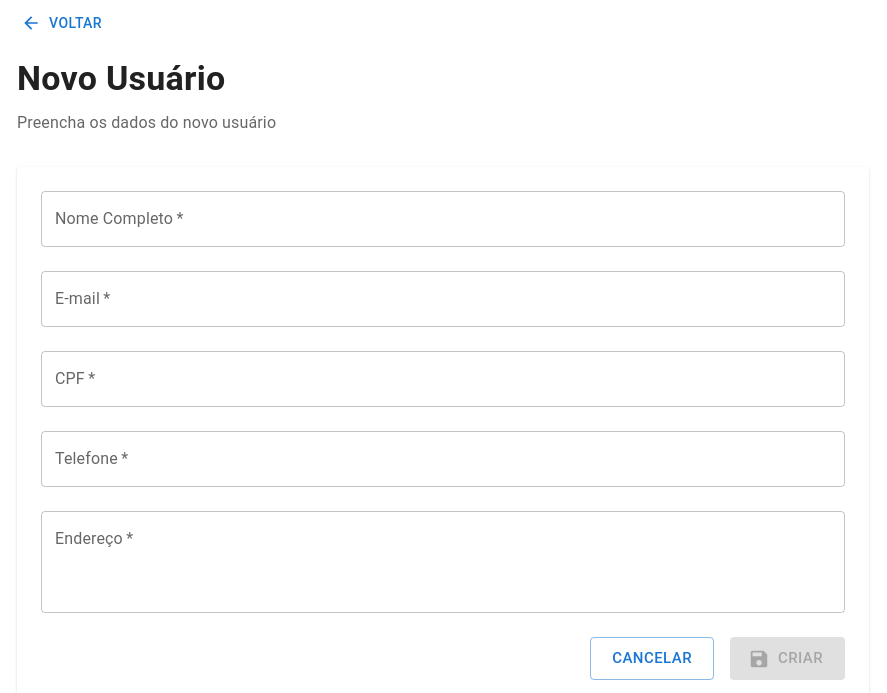
Scenario: UserForm › should enable submit button when form is dirty
Type "João Silva" into the field labelled "Nome Completo *" at (443, 219), box [41, 191, 845, 247]
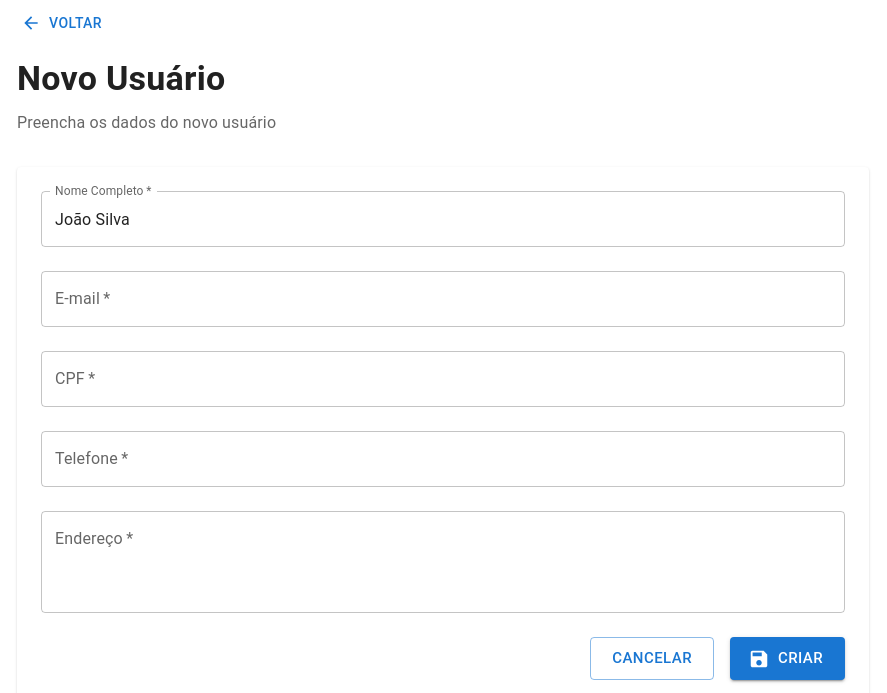
Expected: the button "Criar" is enabled, [730, 637, 845, 680]
